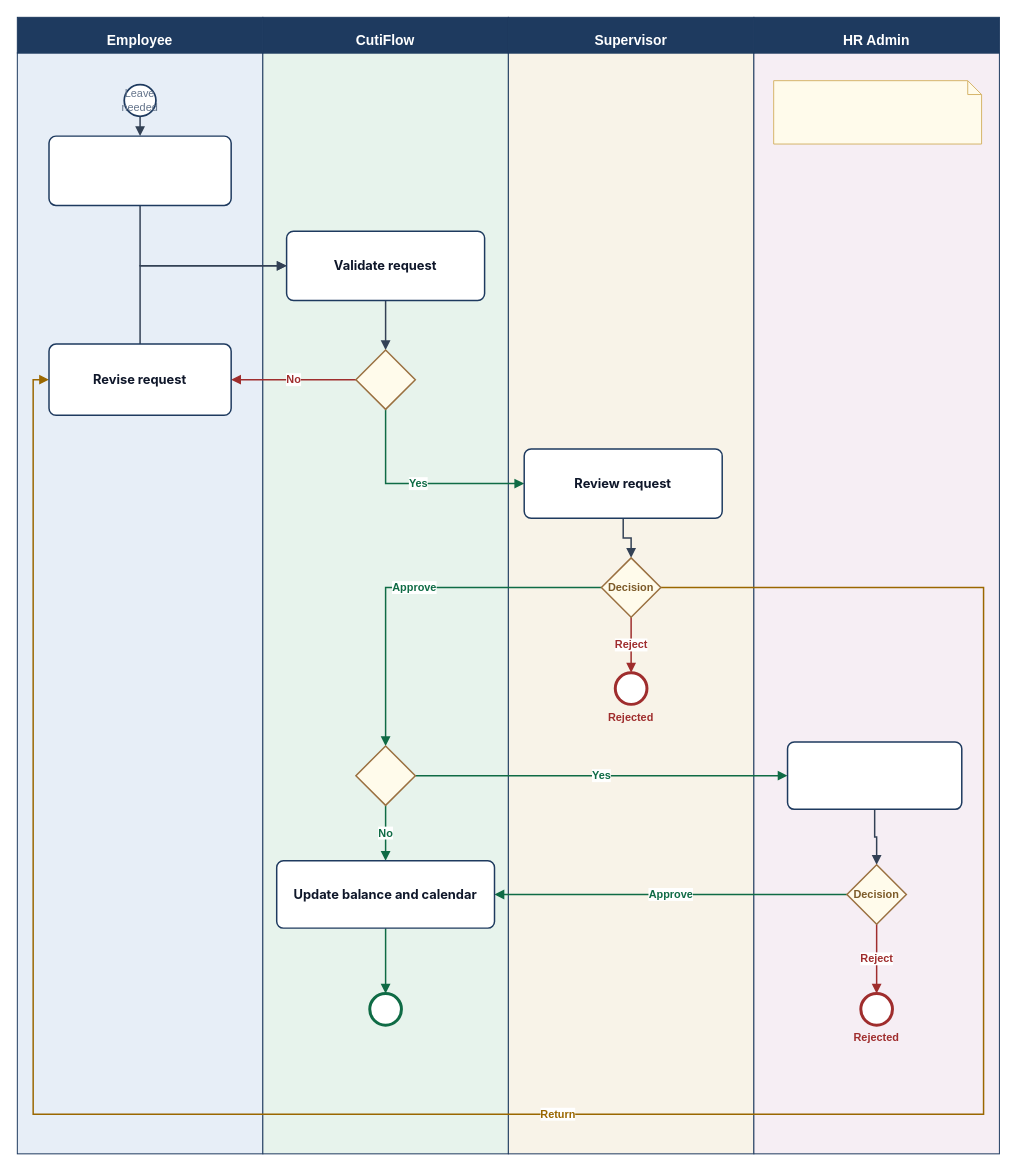
Some shapes in this 1017 by 1171 pixel diagram are drawn without their labels. Here are the shapes that lost their labels. From the top down, the box of each, then its label:
(773, 80, 982, 144): HR approval when working days > 3, or the leave is unpaid or special.
(48, 135, 231, 206): Submit leave request
(355, 349, 416, 410): Valid?
(355, 745, 416, 806): HR needed?
(786, 741, 962, 810): HR review
(368, 991, 402, 1026): Approved
